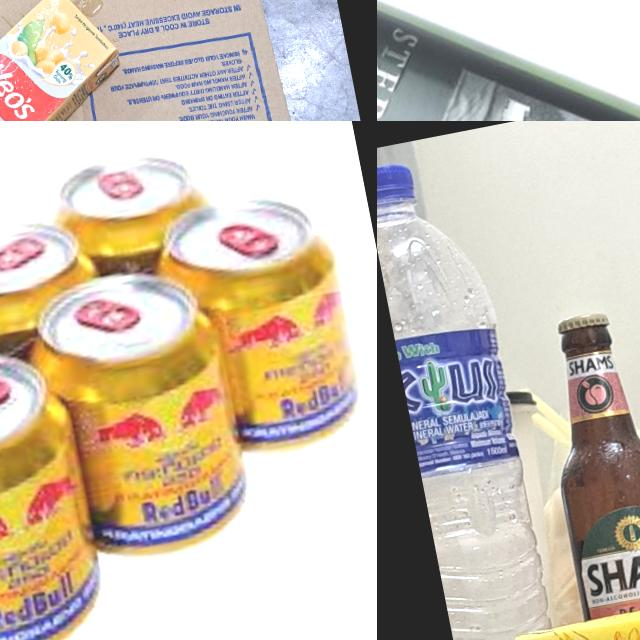aba de lata: (213, 208, 289, 274), (72, 282, 148, 344), (92, 158, 152, 207), (0, 225, 51, 278)
garrafa de vidro: (526, 304, 640, 621), (377, 0, 640, 121)
garrafa plástica: (377, 185, 581, 640), (0, 0, 141, 121)
lata: (29, 248, 258, 564), (152, 188, 368, 467), (0, 328, 113, 640), (56, 136, 216, 302), (0, 207, 110, 371)
papelão: (0, 0, 311, 121)
tampa plástica: (377, 159, 416, 206)
